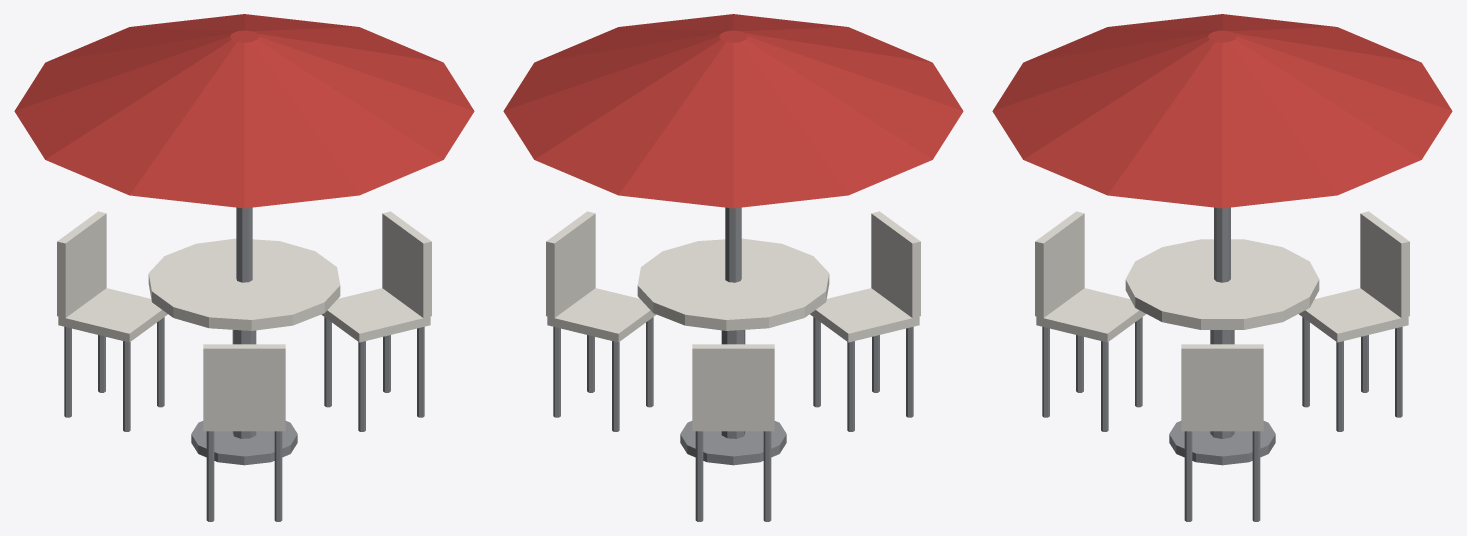
The model's file is parasol_table.glb.
The picture shows the model from 3 angles, left to right: view 1: azimuth 30°, elevation 25°; view 2: azimuth 150°, elevation 25°; view 3: azimuth 270°, elevation 25°; orthographic projection.
Visible parts, largest first — view 1: parasol_table; view 2: parasol_table; view 3: parasol_table.
Boxes of the visible parts, x1,y1,x2,y2 form: parasol_table: [14, 14, 474, 521]; parasol_table: [503, 14, 963, 521]; parasol_table: [992, 14, 1452, 521].
Bounding box in the file's own units: 1.9 × 1.85 × 1.9.
